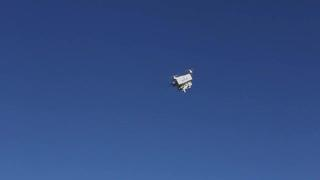UAV: (171, 69, 193, 93)
